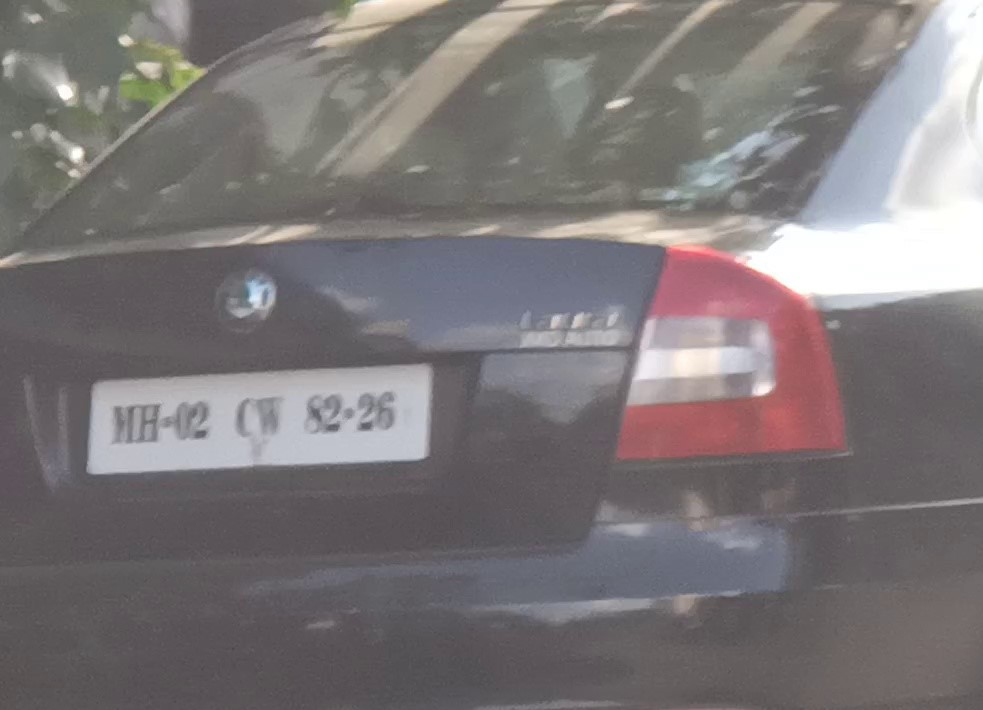MH02CW8226: (86, 363, 432, 459)
